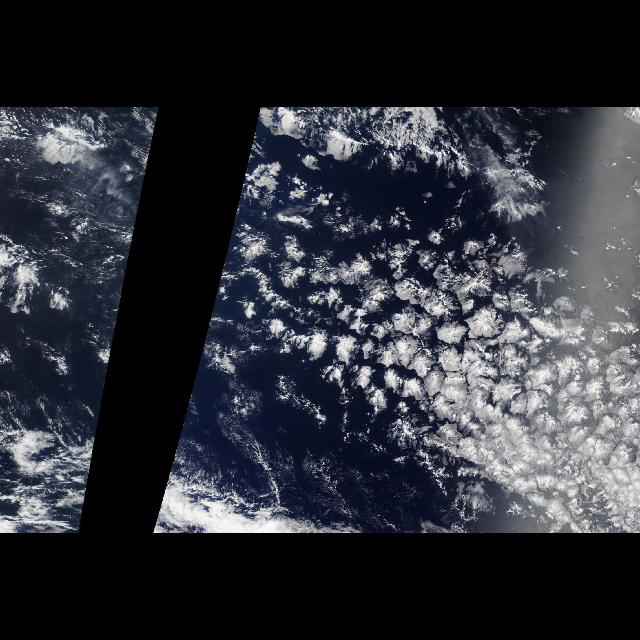Flower: (252, 168, 636, 484)
